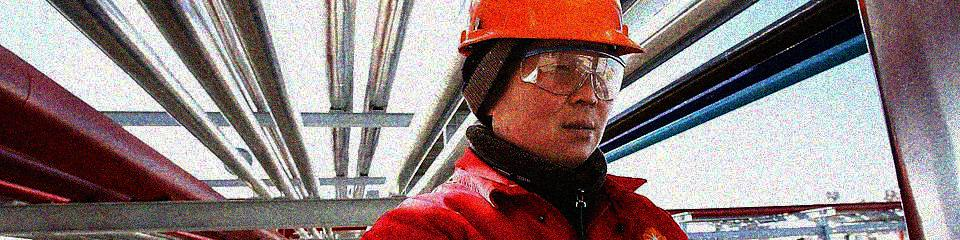helmet: (453, 1, 649, 168)
